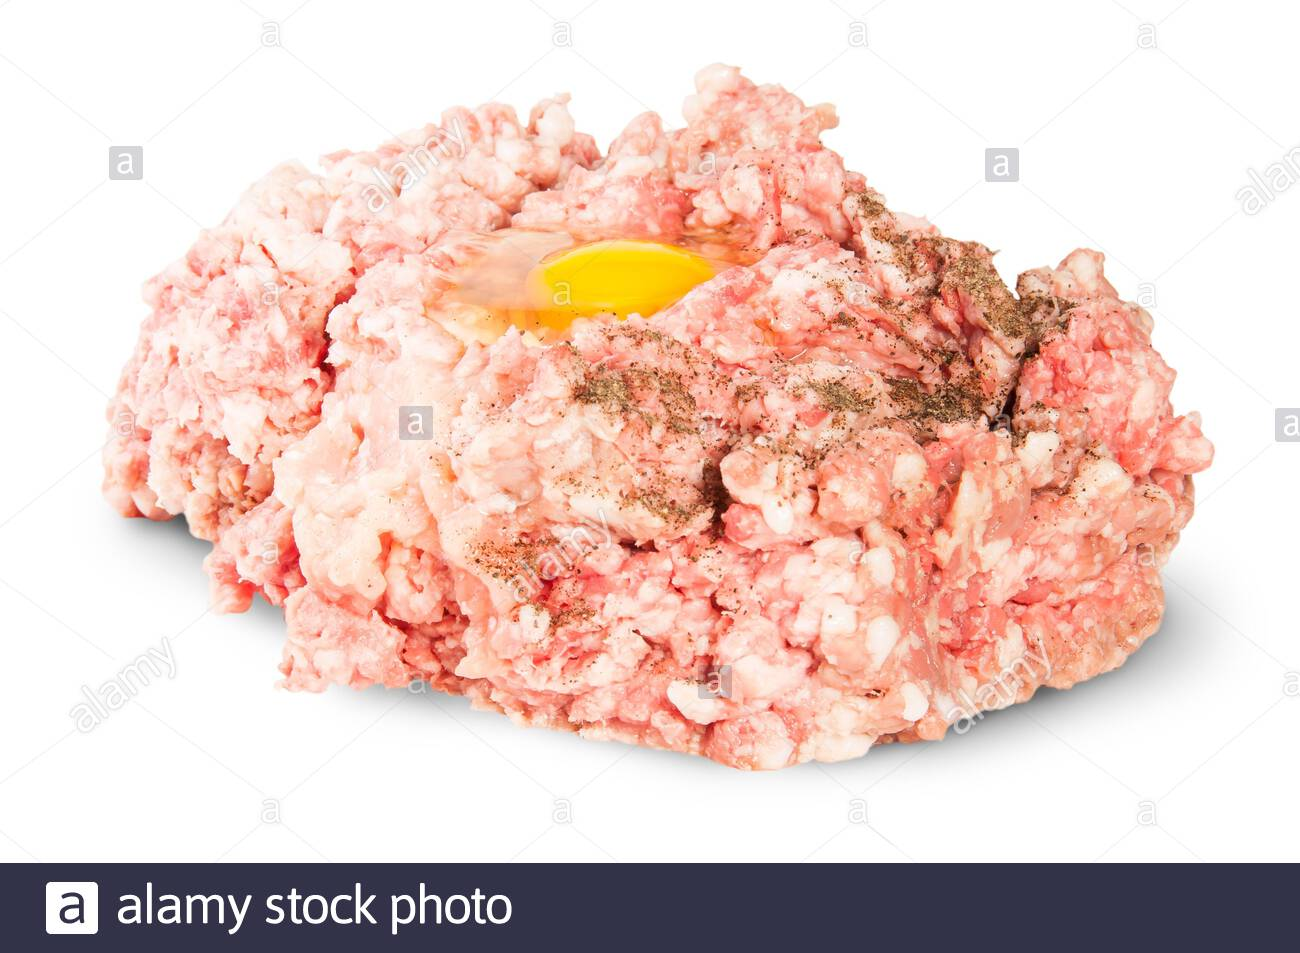ground_beef: (155, 113, 1144, 762)
